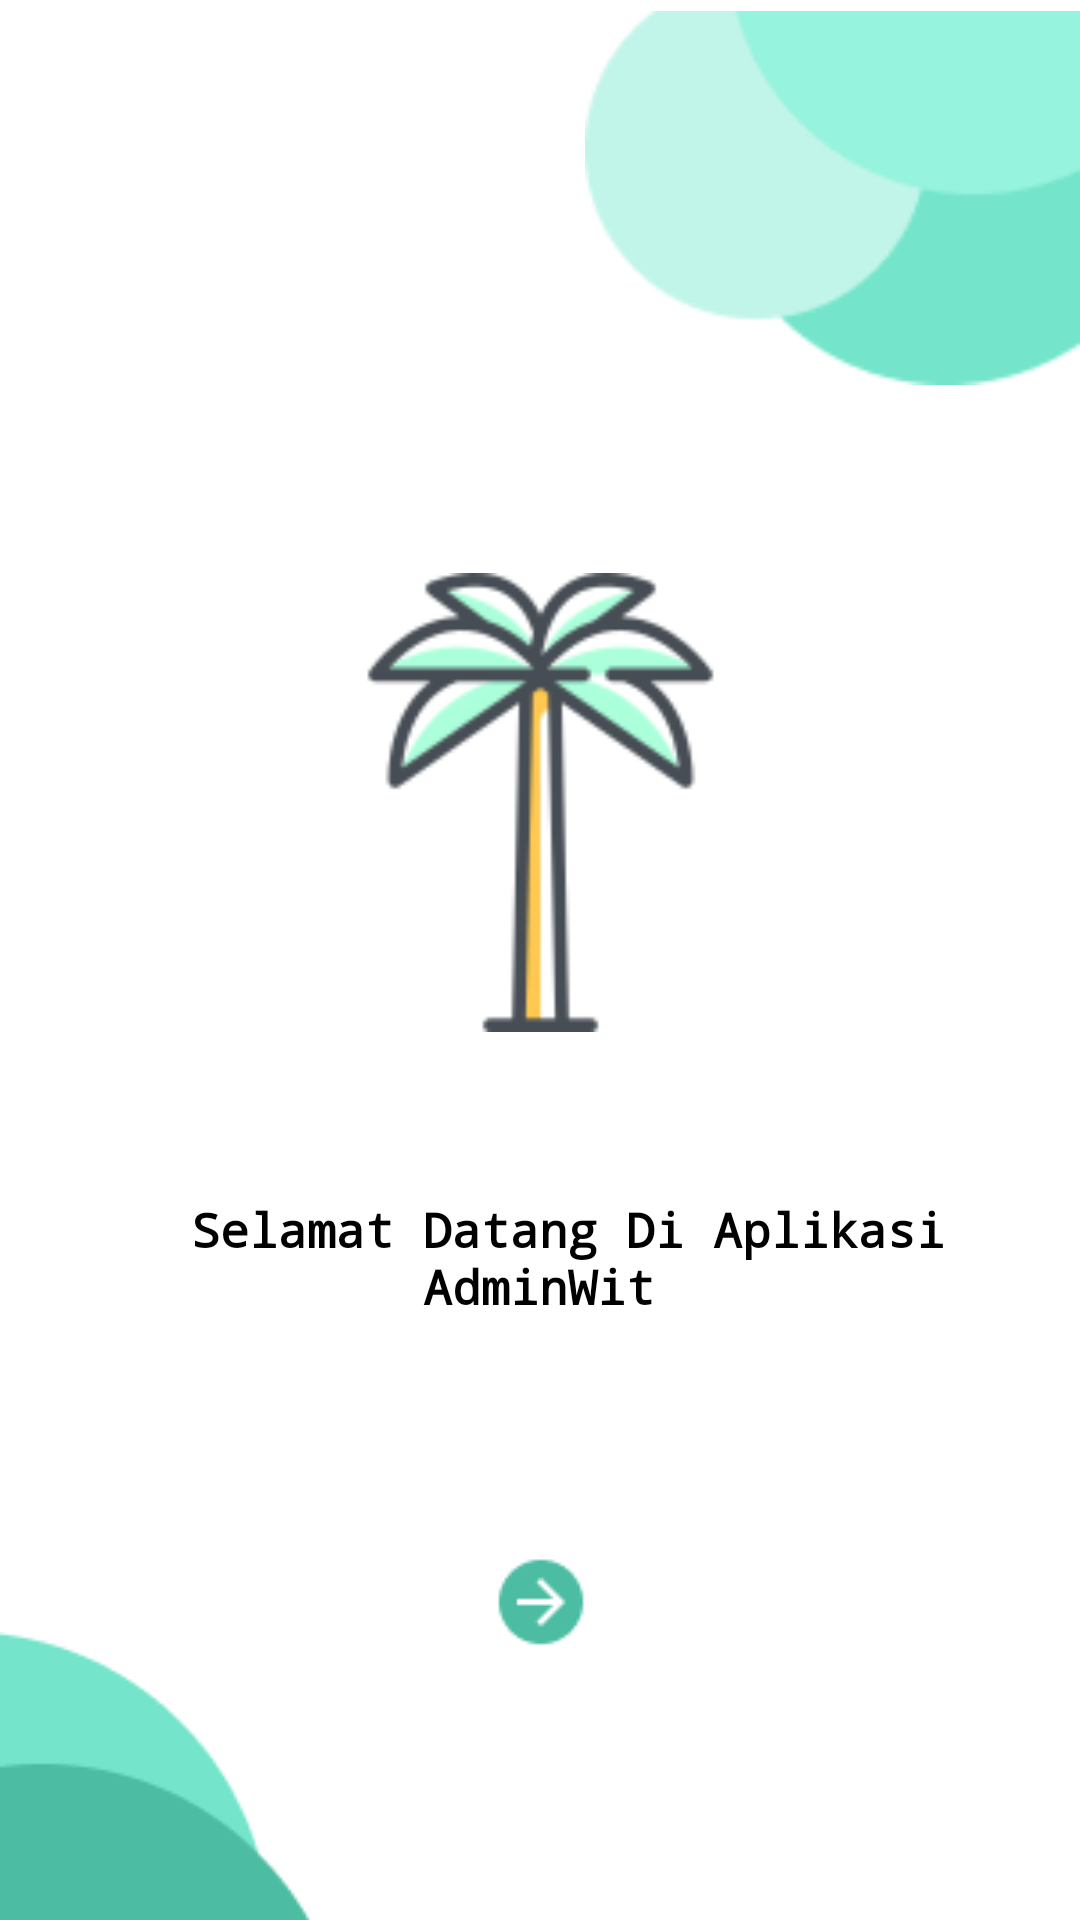

Screen size 1080 × 1920. Icon name, then its center in pixels as point (x, y):
next login: point (541, 1602)
